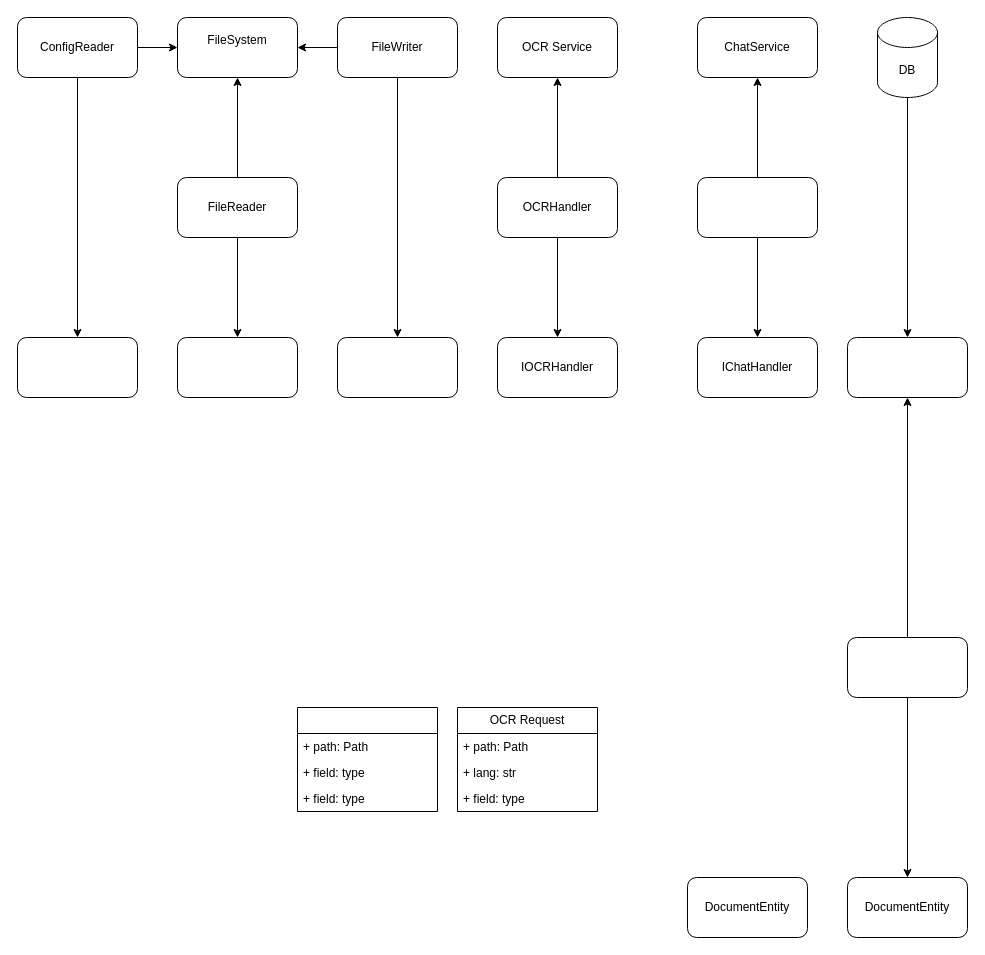
Image size: 985x955. Some labels were removed from this diagram. The box of each missing label's shape, as (x1, y1, x2, y2) in pixels:
ChatHandler: (696, 176, 818, 238)
Controller: (16, 336, 138, 398)
File: (296, 706, 438, 812)
IDocumentRepository: (846, 336, 968, 398)
IFileReader: (176, 336, 298, 398)
IFileWriter: (336, 336, 458, 398)
IRepository: (846, 636, 968, 698)
